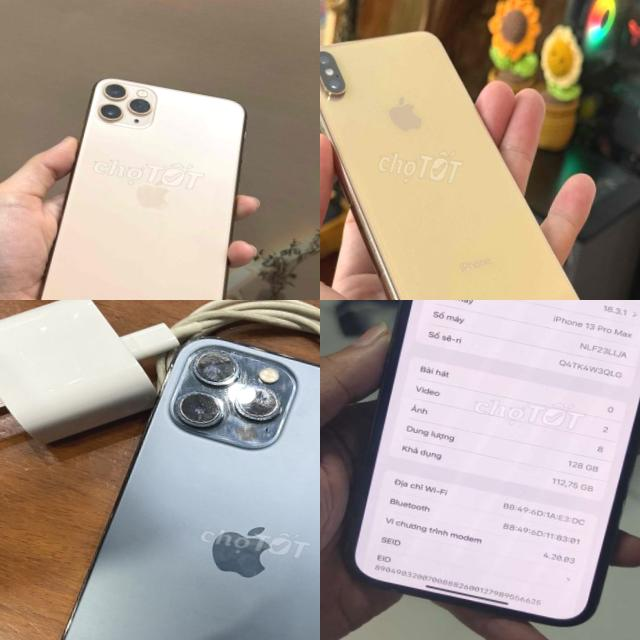scratch: (164, 323, 302, 462)
